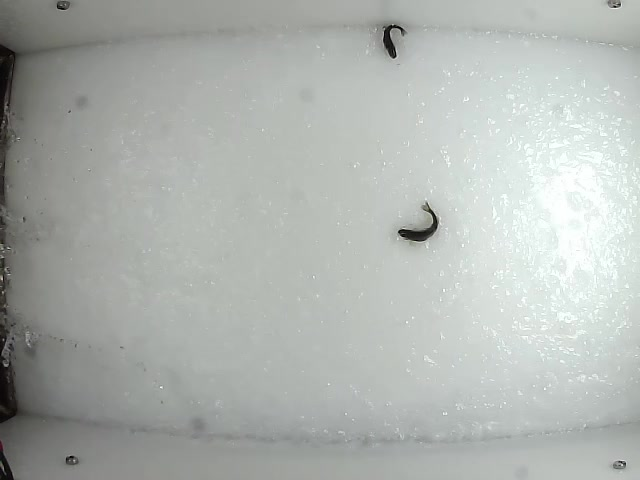fish: (394, 199, 442, 243), (381, 20, 407, 61)
